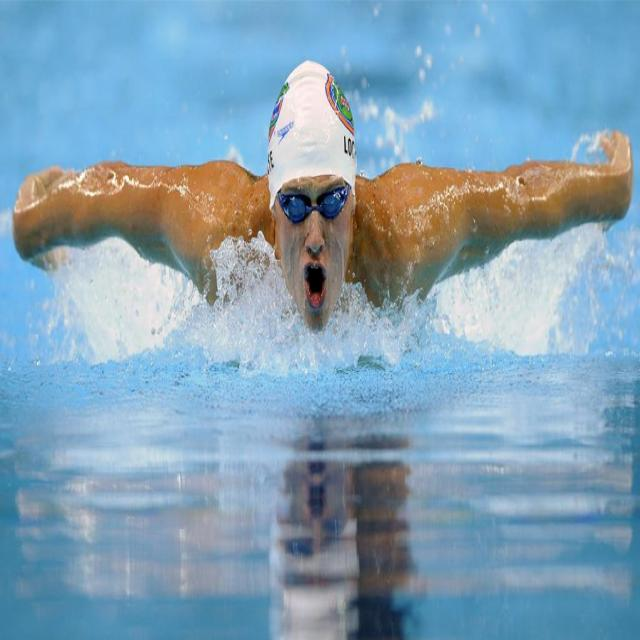nomask: (280, 134, 352, 332)
